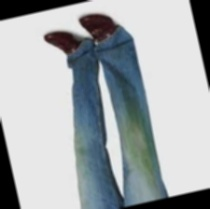earth: (124, 119, 155, 171)
